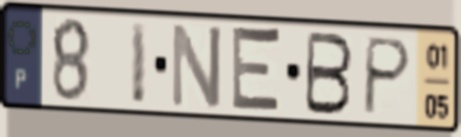8: (50, 15, 93, 103)
B: (302, 29, 356, 119)
E: (228, 21, 284, 119)
I: (128, 18, 151, 107)
N: (168, 19, 224, 111)
P: (360, 34, 415, 119)
